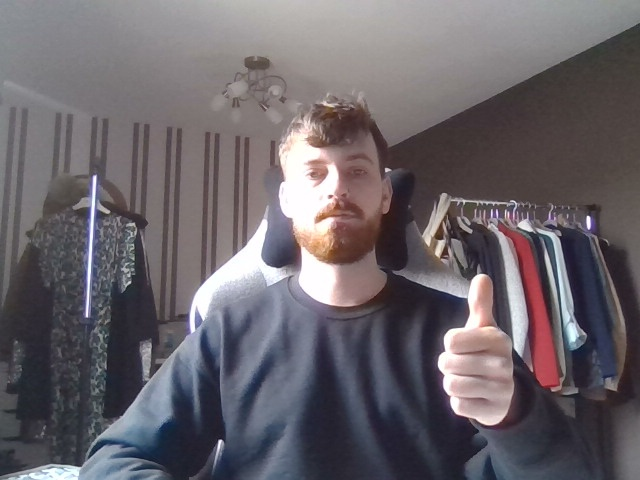Thumbs Up: (435, 269, 522, 431)
